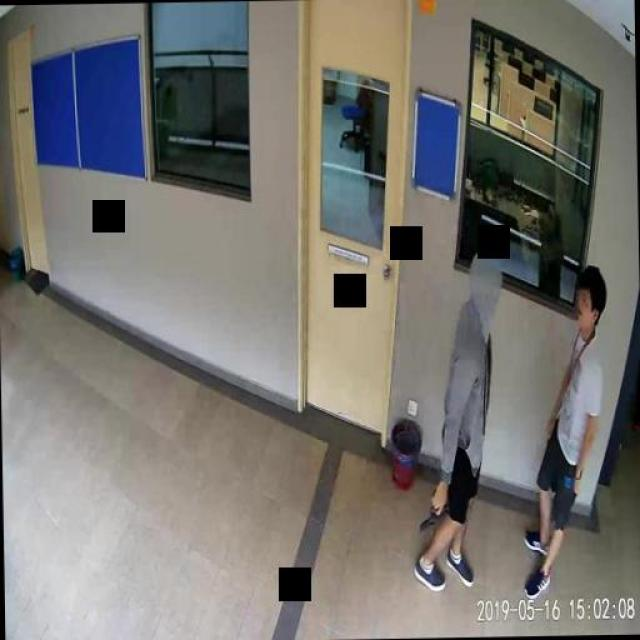gun: (416, 488, 445, 532)
